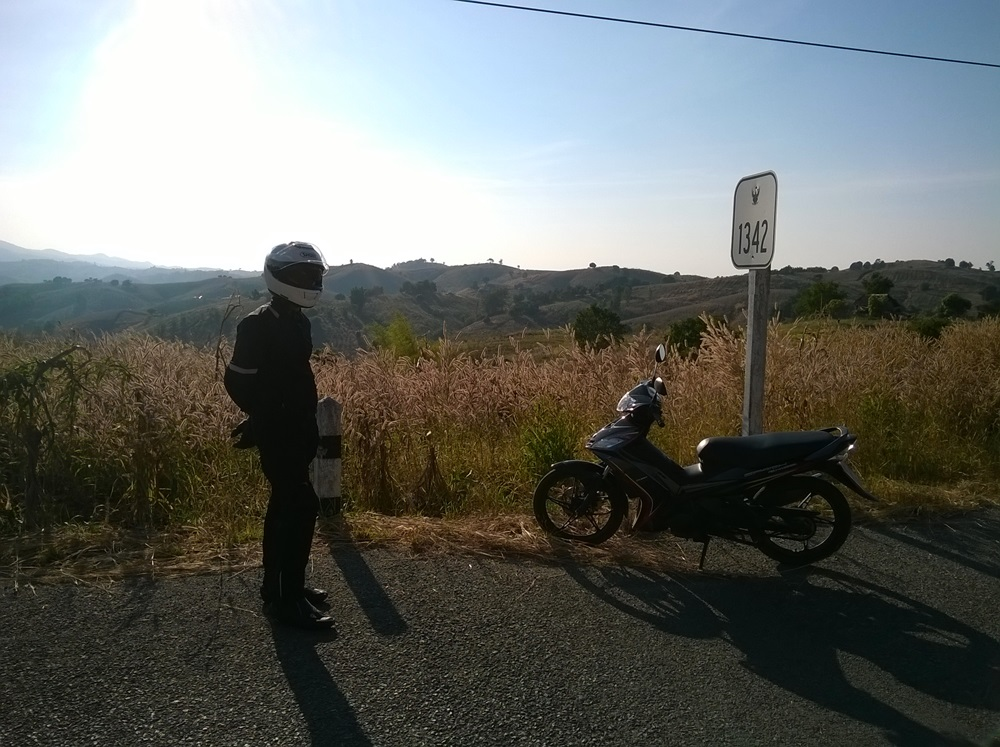helmet: (262, 242, 325, 309)
motorcycle: (534, 384, 849, 573)
